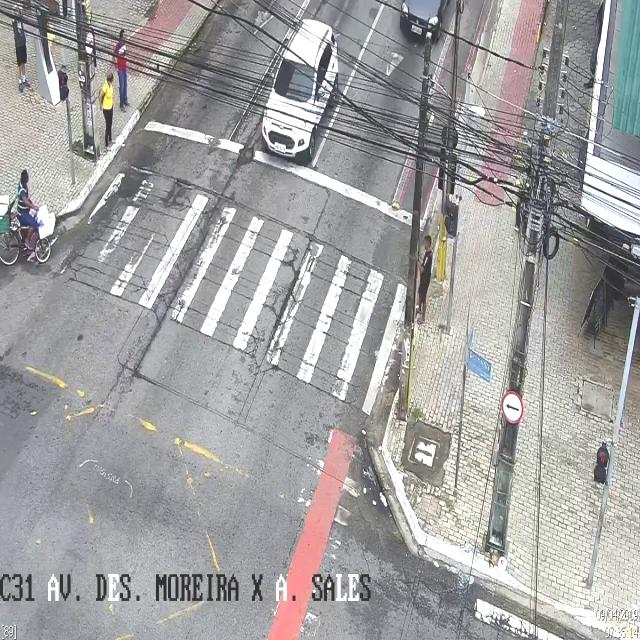Car: (262, 19, 338, 159), (398, 0, 463, 50)
